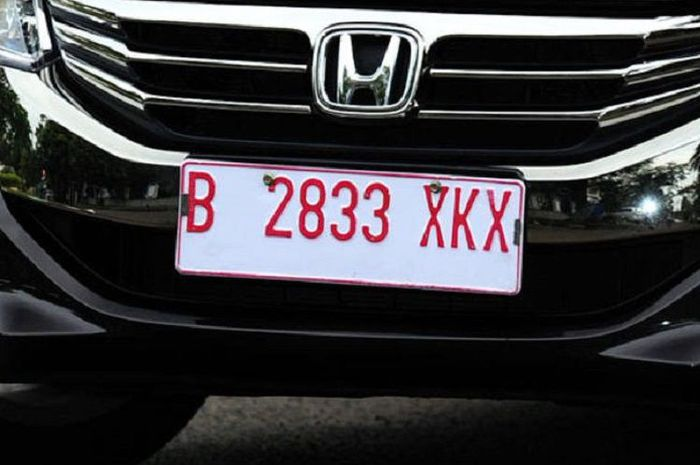plate: (176, 163, 521, 292)
